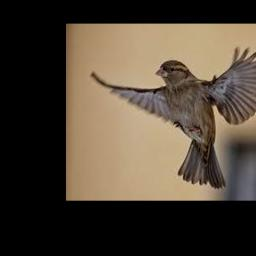Sparrow: (92, 46, 256, 188)
